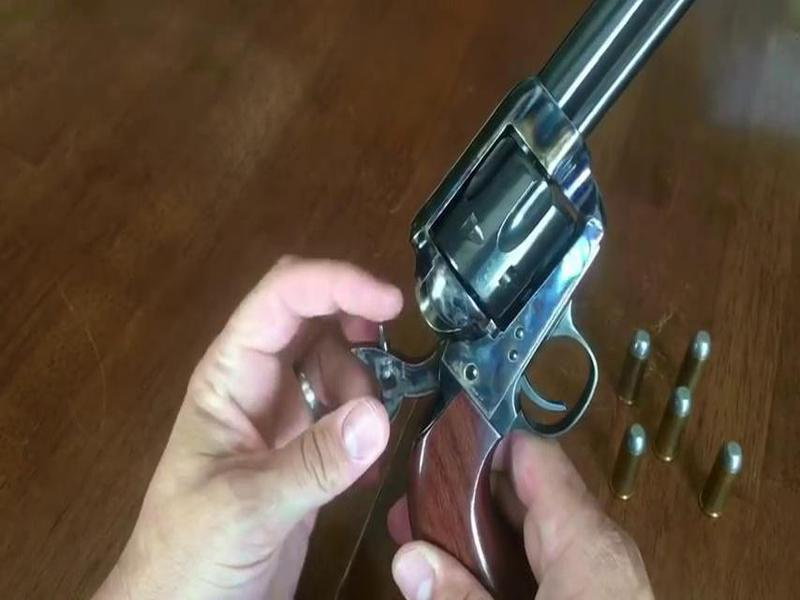Revolver: (357, 14, 654, 477)
